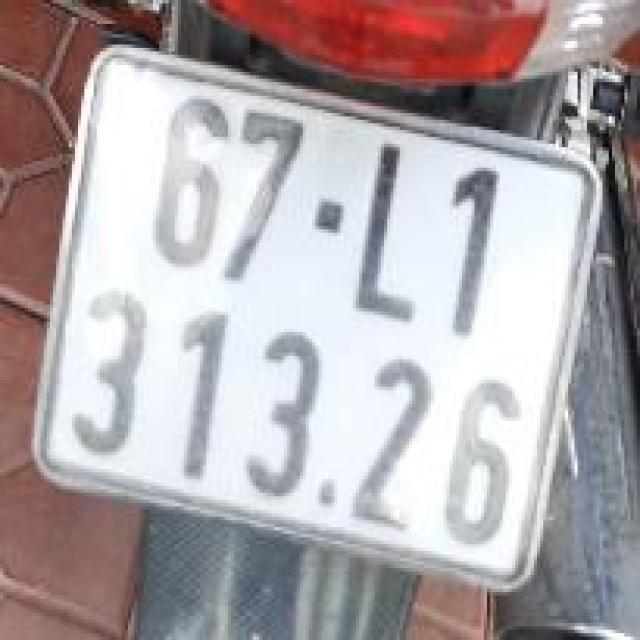1: (167, 292, 233, 494), (443, 156, 503, 337)
2: (342, 347, 435, 546)
3: (69, 277, 150, 462), (246, 318, 322, 510)
6: (440, 361, 525, 556), (153, 89, 228, 277)
7: (225, 89, 303, 301)
L: (343, 132, 431, 327)
